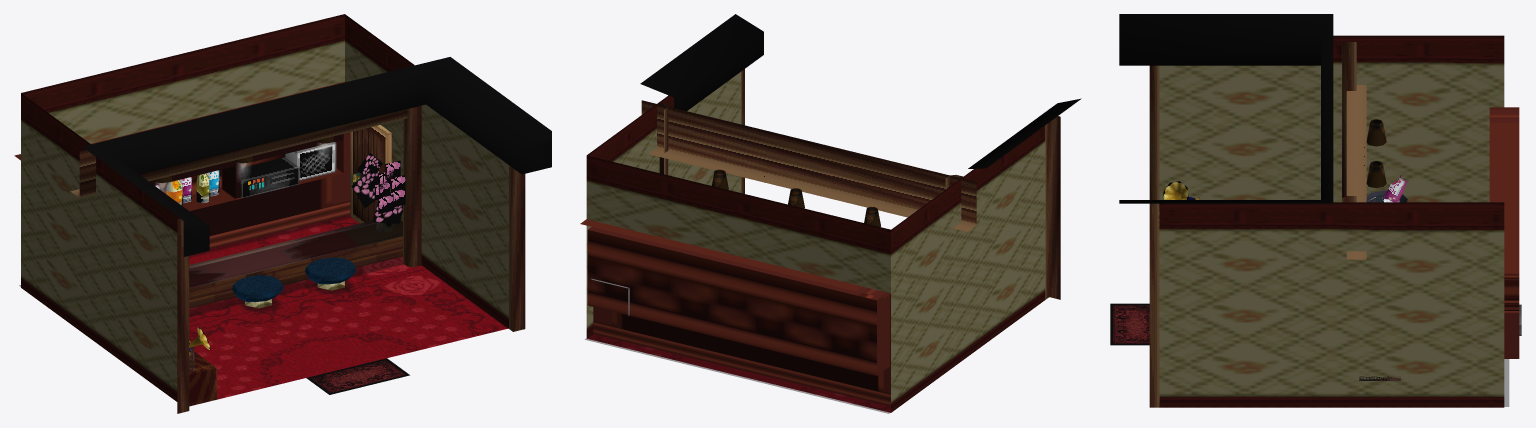
3 views of the same model, side by side, from view 1: azimuth 30°, elevation 25°; view 2: azimuth 150°, elevation 25°; view 3: azimuth 270°, elevation 25° (orthographic). The views are drawn at different scales.
Parts seen in each view (by area): view 1: sh_r_bar; view 2: sh_r_bar; view 3: sh_r_bar.
Part boxes in pixels (left/top/right/bottom): sh_r_bar: left=14, top=14, right=551, bottom=413; sh_r_bar: left=580, top=14, right=1081, bottom=413; sh_r_bar: left=1110, top=14, right=1521, bottom=407.
Size of the model in its own units: 4.55 by 2.43 by 4.18.
Materials: 34 (34 with a texture image).
